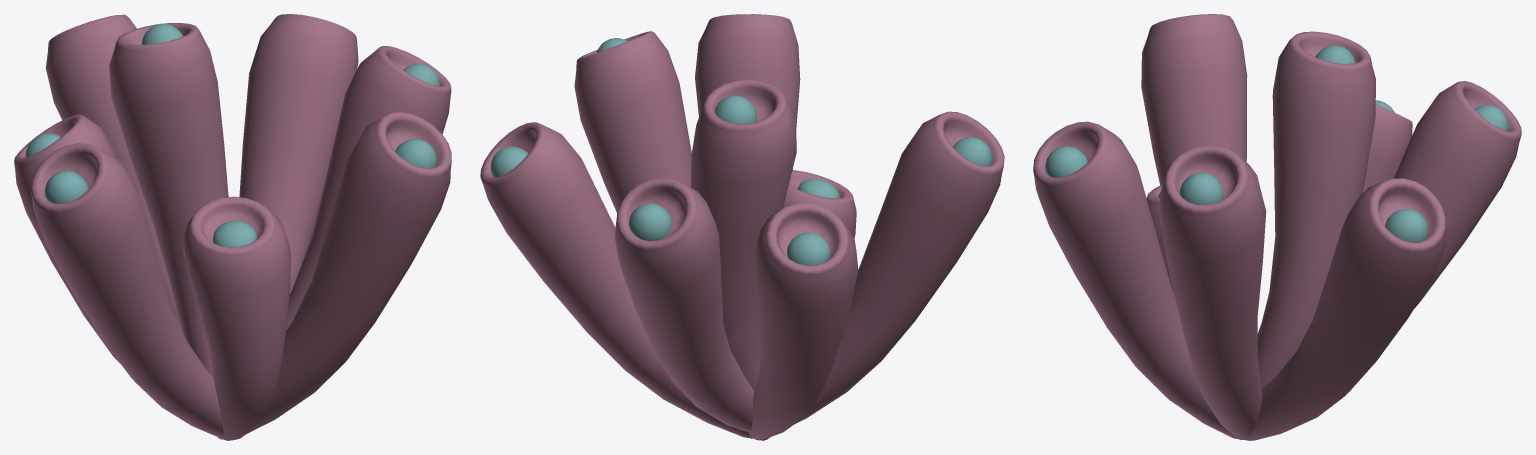
Rendered from Plant_1.fbx.
3 renders of one model, left to right at view 1: azimuth 30°, elevation 25°; view 2: azimuth 150°, elevation 25°; view 3: azimuth 270°, elevation 25°, orthographic.
Visible parts, largest first — view 1: pCylinder12 (×8), pSphere9 (×6); view 2: pCylinder12 (×8), pSphere9 (×6); view 3: pCylinder12 (×8), pSphere9 (×5).
Boxes of the visible parts, x1,y1,x2,y2 form: pCylinder12 (×8): (14, 14, 451, 440); pSphere9 (×6): (25, 23, 439, 247); pCylinder12 (×8): (480, 14, 1004, 440); pSphere9 (×6): (490, 95, 992, 265); pCylinder12 (×8): (1033, 14, 1521, 440); pSphere9 (×5): (1045, 45, 1508, 242).
Bounding box in the file's own units: 72.69 × 64.44 × 74.27.
